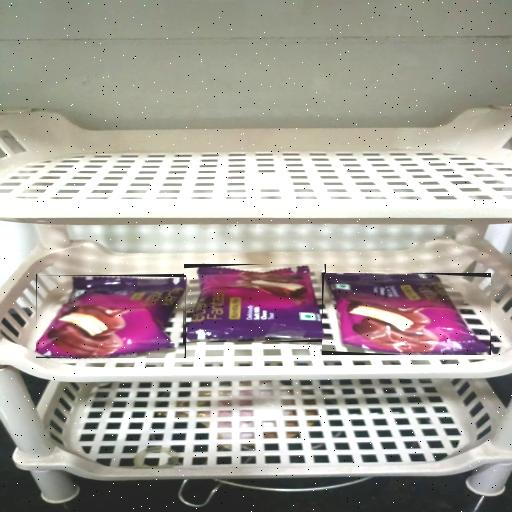Choco Pie: (325, 273, 489, 355), (36, 277, 186, 358), (186, 267, 326, 341)
